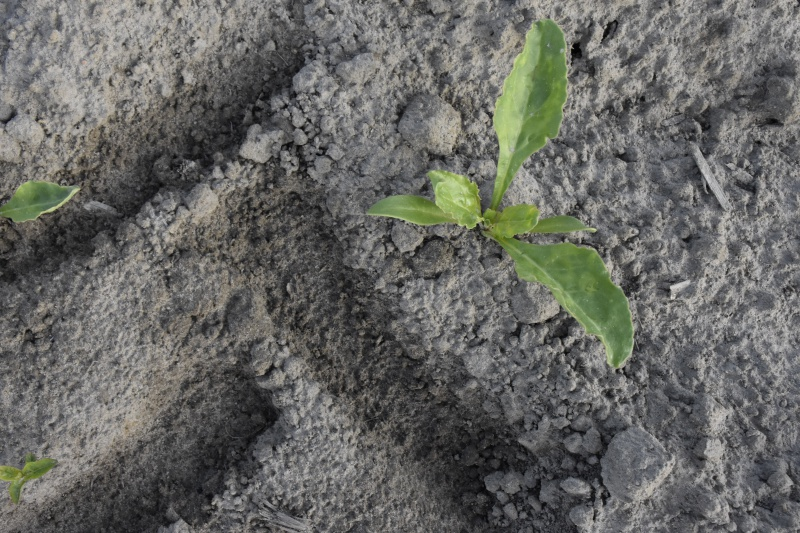field bindweed: (1, 454, 59, 510)
sugar beet: (362, 18, 644, 370)
